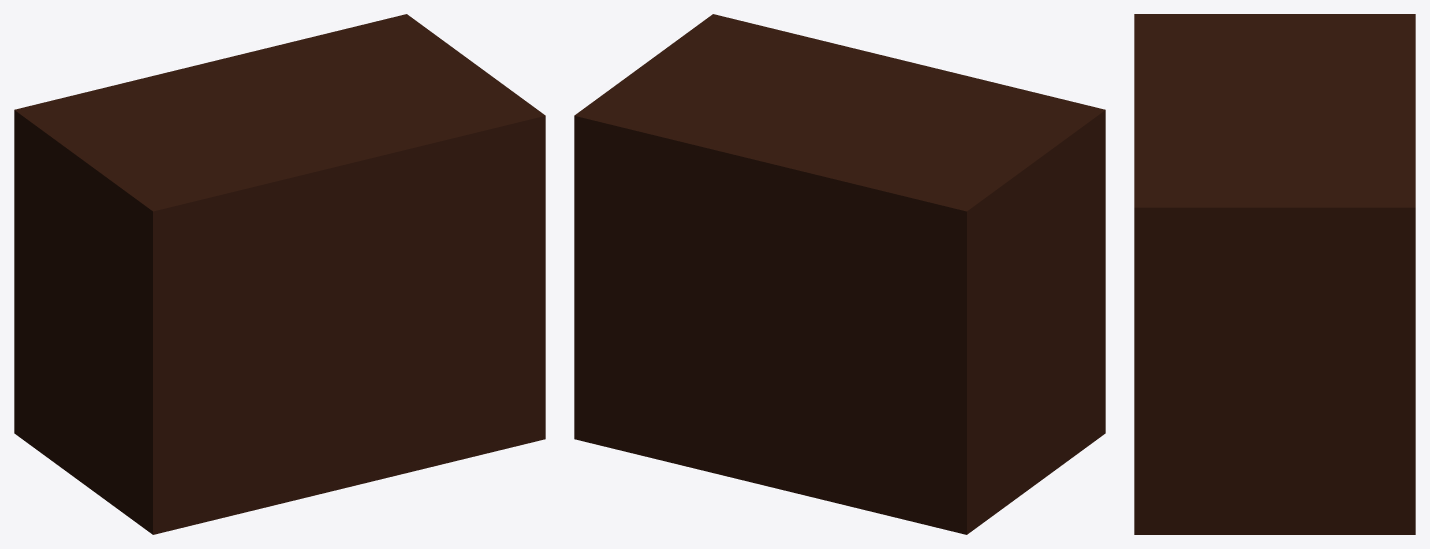
The model's file is padded_case.obj.
The picture shows the model from 3 angles, left to right: view 1: azimuth 30°, elevation 25°; view 2: azimuth 150°, elevation 25°; view 3: azimuth 270°, elevation 25°; orthographic projection.
Parts seen in each view (by area): view 1: dark_wood; view 2: dark_wood; view 3: dark_wood.
Boxes of the visible parts, x1,y1,x2,y2 form: dark_wood: [14, 14, 545, 534]; dark_wood: [574, 14, 1105, 534]; dark_wood: [1134, 14, 1415, 534].
Size of the model in its own units: 1.55 by 1.22 by 0.95.
